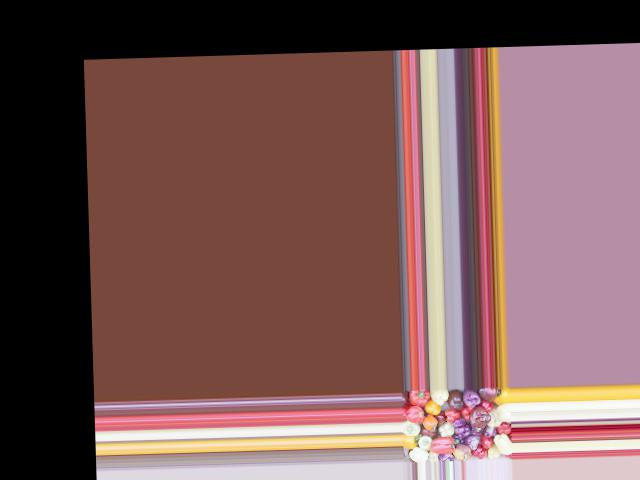bell_pepper: (402, 421, 422, 434)
